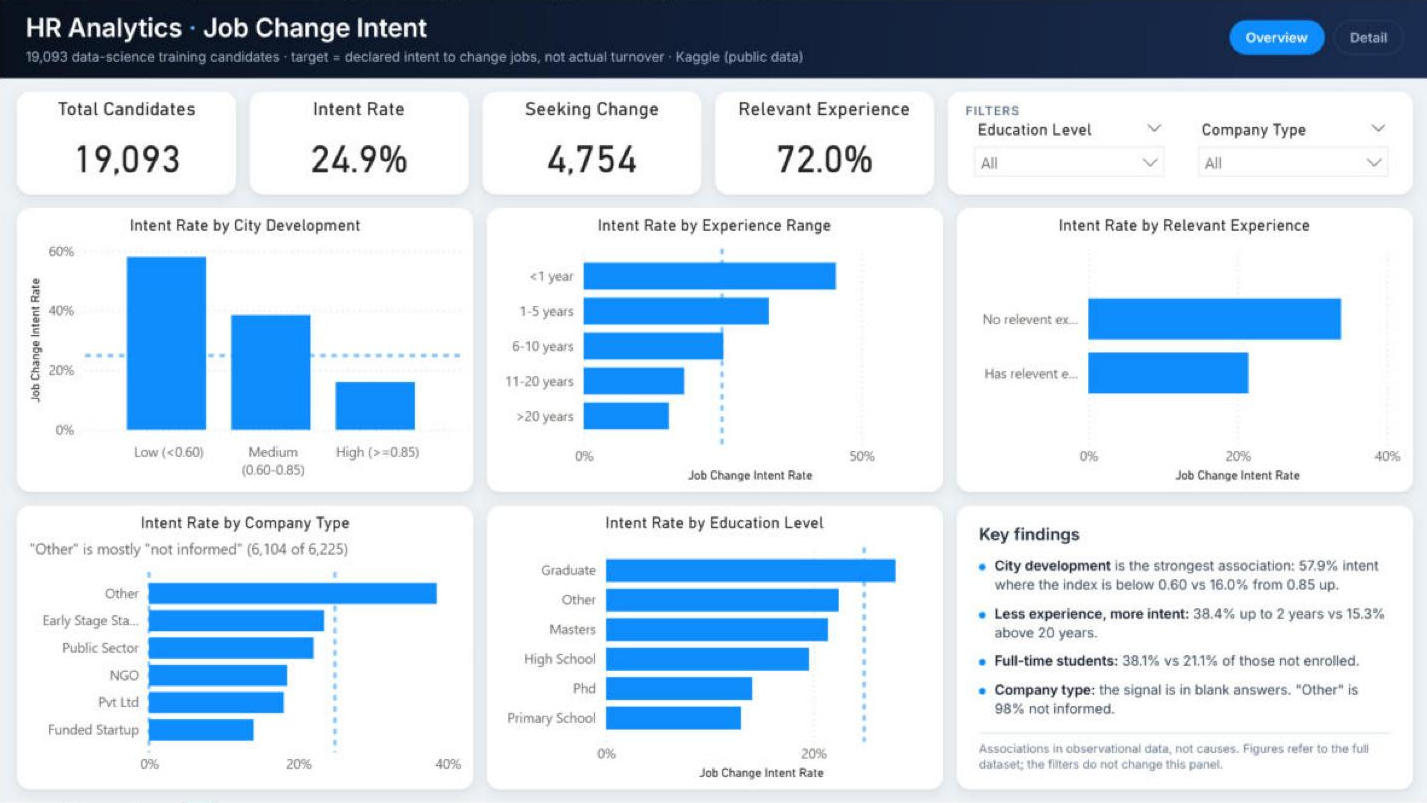

What the dashboard file says about the page in this screenshot:
{"tool":"powerbi","page":{"name":"Overview","canvas":[1280,720],"ordinal":0},"visuals":[{"type":"card","title":"Total Candidates","fields":{"Values":["hr_analytics_tratado.Total Candidatos"]},"box":[20,88,188,84],"z":0},{"type":"card","title":"Intent Rate","fields":{"Values":["hr_analytics_tratado.Taxa Saida %"]},"box":[228,88,188,84],"z":1000},{"type":"card","title":"Seeking Change","fields":{"Values":["hr_analytics_tratado.Candidatos Buscando Saida"]},"box":[436,88,188,84],"z":2000},{"type":"card","title":"Relevant Experience","fields":{"Values":["hr_analytics_tratado.% Experiencia Relevante"]},"box":[644,88,188,84],"z":3000},{"type":"clusteredBarChart","title":"Intent Rate by Education Level","fields":{"Category":["hr_analytics_tratado.education_level"],"Y":["hr_analytics_tratado.Taxa Saida %"]},"box":[442,460,396,242],"z":4000},{"type":"clusteredBarChart","title":"Intent Rate by Company Type","fields":{"Category":["hr_analytics_tratado.company_type"],"Y":["hr_analytics_tratado.Taxa Saida %"]},"box":[22,460,396,242],"z":5000},{"type":"clusteredBarChart","title":"Intent Rate by Relevant Experience","fields":{"Y":["hr_analytics_tratado.Taxa Saida %"],"Category":["hr_analytics_tratado.relevent_experience"]},"box":[862,194,396,242],"z":6000},{"type":"clusteredColumnChart","title":"Intent Rate by City Development","fields":{"Category":["hr_analytics_tratado.Faixa City Dev Index"],"Y":["hr_analytics_tratado.Taxa Saida %"]},"box":[22,194,396,242],"z":7000},{"type":"clusteredBarChart","title":"Intent Rate by Experience Range","fields":{"Y":["hr_analytics_tratado.Taxa Saida %"],"Category":["hr_analytics_tratado.Faixa Experiencia"]},"box":[442,194,396,242],"z":8000},{"type":"slicer","fields":{"Values":["hr_analytics_tratado.education_level"]},"box":[862,104,190,64],"z":9000},{"type":"slicer","fields":{"Values":["hr_analytics_tratado.company_type"]},"box":[1062,104,190,64],"z":10000},{"type":"actionButton","box":[1191,18,68,34],"z":20000}]}

Visuals, with their boxes in screenshot pixels (x1, y1, x2, y2), scaled from the page's 1280x720 canvas onto the 1427x803 screenshot:
"Total Candidates" card: select_region(22, 98, 232, 192)
"Intent Rate" card: select_region(254, 98, 464, 192)
"Seeking Change" card: select_region(486, 98, 696, 192)
"Relevant Experience" card: select_region(718, 98, 928, 192)
"Intent Rate by Education Level" clusteredBarChart: select_region(493, 513, 934, 783)
"Intent Rate by Company Type" clusteredBarChart: select_region(25, 513, 466, 783)
"Intent Rate by Relevant Experience" clusteredBarChart: select_region(961, 216, 1402, 486)
"Intent Rate by City Development" clusteredColumnChart: select_region(25, 216, 466, 486)
"Intent Rate by Experience Range" clusteredBarChart: select_region(493, 216, 934, 486)
slicer - hr_analytics_tratado.education_level: select_region(961, 116, 1173, 187)
slicer - hr_analytics_tratado.company_type: select_region(1184, 116, 1396, 187)
actionButton: select_region(1328, 20, 1404, 58)
